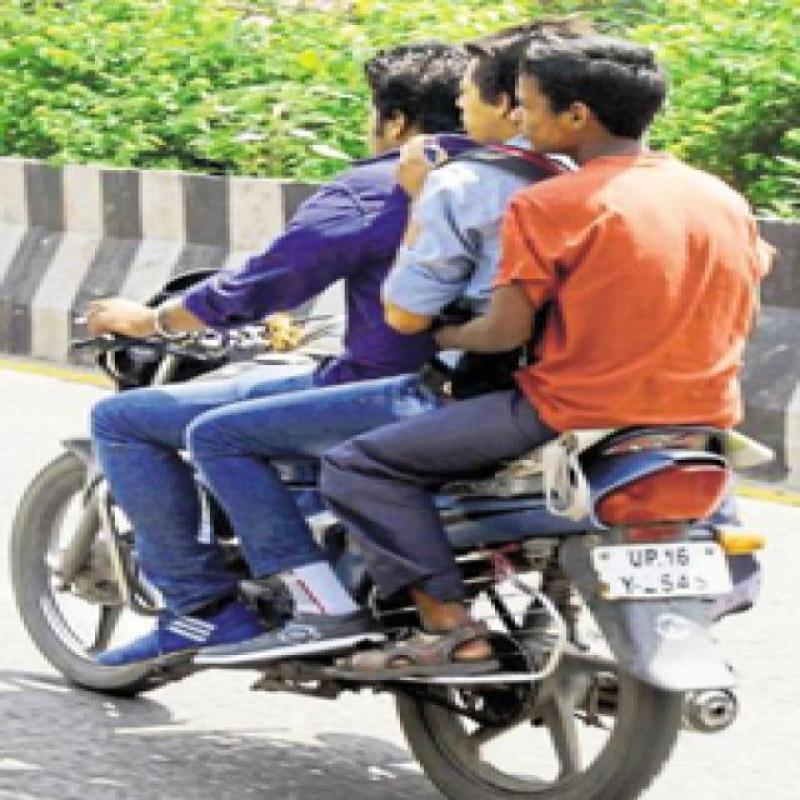nohelmet: (514, 42, 732, 160), (345, 28, 470, 142)
